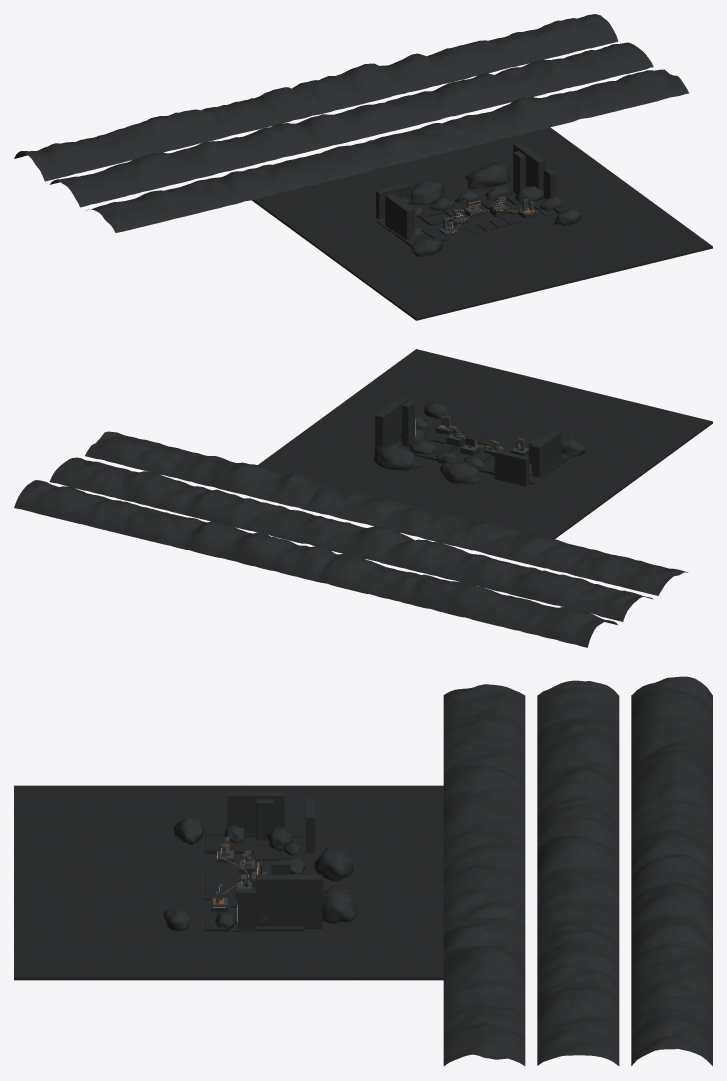
Rendered from offset-world.glb.
3 views of the same model, one above another, from view 1: azimuth 30°, elevation 25°; view 2: azimuth 150°, elevation 25°; view 3: azimuth 270°, elevation 25° (orthographic). The views are drawn at different scales.
Parts seen in each view (by area): view 1: ENV_foundation, ENV_mountain_range_2, ENV_mountain_range_1, ENV_mountain_range_0, ENV_canyon_wall_0, ENV_basalt_outcrop_11, ENV_canyon_wall_2, ENV_basalt_outcrop_10, ENV_canyon_wall_1, ENV_monolith_05; view 2: ENV_foundation, ENV_mountain_range_2, ENV_mountain_range_1, ENV_mountain_range_0, ENV_canyon_wall_2, ENV_canyon_wall_1, ENV_canyon_wall_0, ENV_basalt_outcrop_11, ENV_basalt_outcrop_10, ENV_monolith_05; view 3: ENV_foundation, ENV_mountain_range_1, ENV_mountain_range_0, ENV_mountain_range_2, ENV_canyon_wall_2, ENV_canyon_wall_0, ENV_basalt_outcrop_11, ENV_basalt_outcrop_10, ENV_monolith_06, ENV_monolith_00, ENV_basalt_outcrop_08.
Boxes of the visible parts, x1=… form: ENV_foundation: x1=252, y1=127, x2=712, y2=320; ENV_mountain_range_2: x1=14, y1=14, x2=618, y2=181; ENV_mountain_range_1: x1=49, y1=42, x2=653, y2=207; ENV_mountain_range_0: x1=86, y1=69, x2=688, y2=232; ENV_canyon_wall_0: x1=385, y1=194, x2=414, y2=239; ENV_basalt_outcrop_11: x1=465, y1=163, x2=510, y2=189; ENV_canyon_wall_2: x1=513, y1=142, x2=546, y2=191; ENV_basalt_outcrop_10: x1=411, y1=181, x2=444, y2=205; ENV_canyon_wall_1: x1=376, y1=183, x2=410, y2=219; ENV_monolith_05: x1=513, y1=151, x2=525, y2=194; ENV_foundation: x1=258, y1=349, x2=712, y2=538; ENV_mountain_range_2: x1=14, y1=480, x2=617, y2=647; ENV_mountain_range_1: x1=49, y1=457, x2=653, y2=621; ENV_mountain_range_0: x1=85, y1=431, x2=688, y2=595; ENV_canyon_wall_2: x1=375, y1=397, x2=407, y2=449; ENV_canyon_wall_1: x1=494, y1=449, x2=529, y2=486; ENV_canyon_wall_0: x1=531, y1=430, x2=561, y2=477; ENV_basalt_outcrop_11: x1=373, y1=444, x2=420, y2=471; ENV_basalt_outcrop_10: x1=439, y1=461, x2=481, y2=484; ENV_monolith_05: x1=402, y1=400, x2=414, y2=446; ENV_foundation: x1=14, y1=785, x2=443, y2=980; ENV_mountain_range_1: x1=537, y1=680, x2=619, y2=1065; ENV_mountain_range_0: x1=443, y1=684, x2=525, y2=1065; ENV_mountain_range_2: x1=631, y1=676, x2=712, y2=1065; ENV_canyon_wall_2: x1=256, y1=874, x2=322, y2=928; ENV_canyon_wall_0: x1=227, y1=790, x2=284, y2=836; ENV_basalt_outcrop_11: x1=322, y1=885, x2=358, y2=923; ENV_basalt_outcrop_10: x1=314, y1=846, x2=353, y2=881; ENV_monolith_06: x1=238, y1=888, x2=255, y2=930; ENV_monolith_00: x1=256, y1=799, x2=274, y2=840; ENV_basalt_outcrop_08: x1=174, y1=817, x2=204, y2=844.
Size of the model in its own units: 290 by 25.27 by 231.
11 materials, 3 textured.
